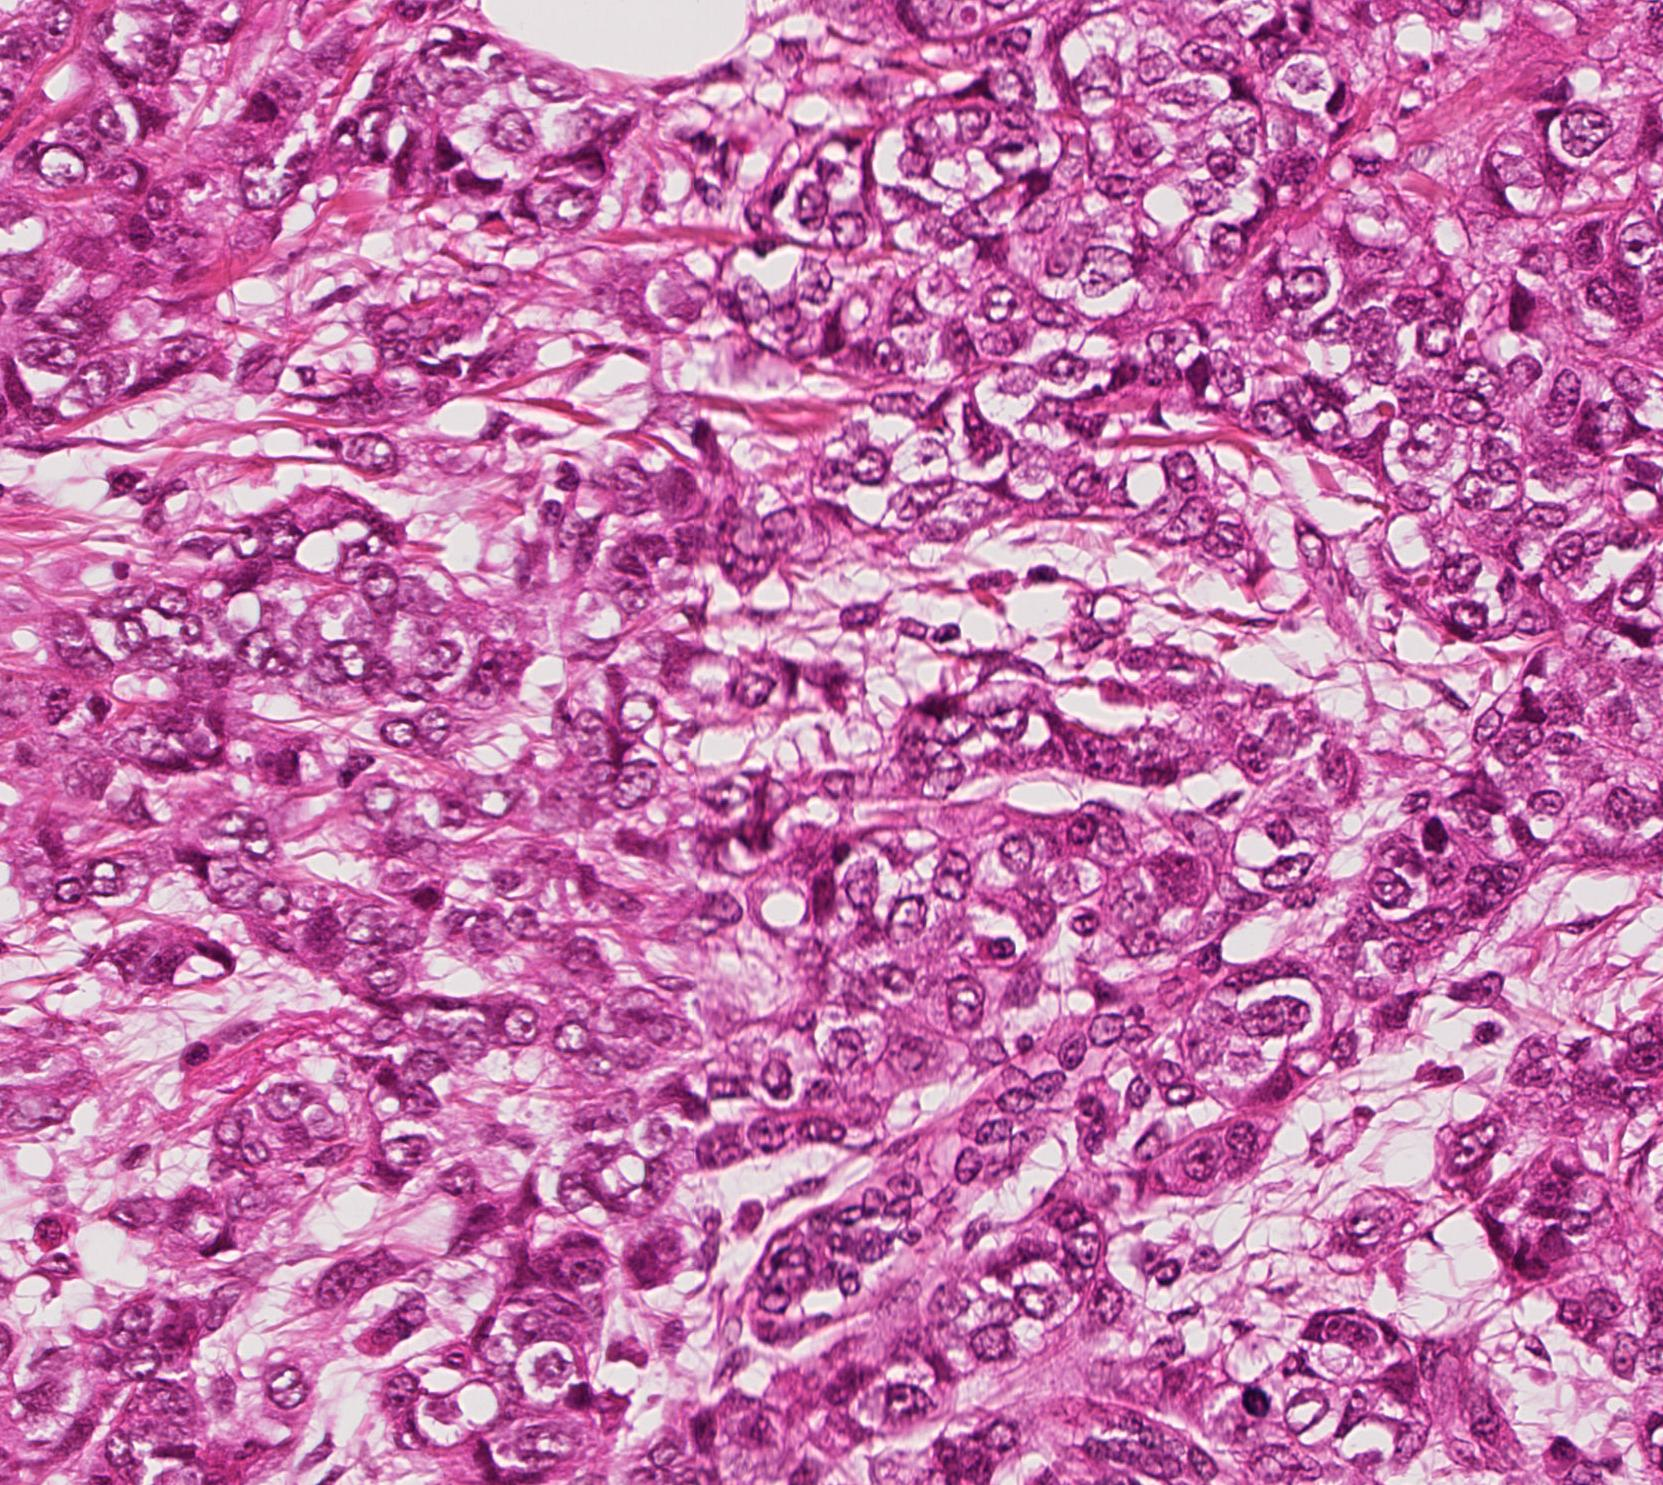mitosis: (1223, 1365, 1283, 1423)
